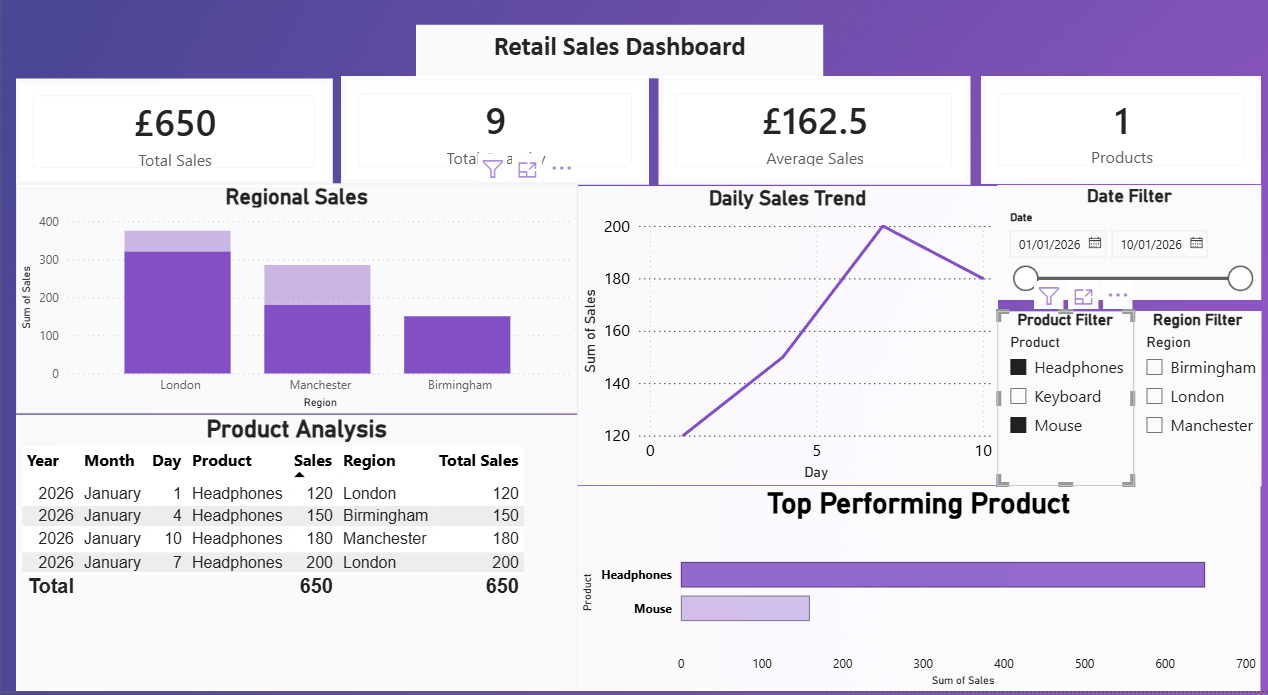

Layout of this report page (visuals, bound fields, positions):
{"tool":"powerbi","page":{"name":"Page 1","canvas":[1280,720],"ordinal":0},"visuals":[{"type":"clusteredBarChart","title":"Top Performing Product","fields":{"Category":["sales_data cvs.Product"],"Y":["Sum(sales_data cvs.Sales)"]},"box":[576.3,514.6,683.4,205.8],"z":0},{"type":"lineChart","title":"Daily Sales Trend","fields":{"Category":["sales_data cvs.Date.Variation.Date Hierarchy.Day"],"Y":["Sum(sales_data cvs.Sales)"]},"box":[576,215.2,420.7,299.6],"z":1000},{"type":"tableEx","title":"Product Analysis","fields":{"Values":["sales_data cvs.Date.Variation.Date Hierarchy.Year","sales_data cvs.Date.Variation.Date Hierarchy.Month","sales_data cvs.Date.Variation.Date Hierarchy.Day","sales_data cvs.Product","Sum(sales_data cvs.Sales)","sales_data cvs.Region","sales_data cvs.Total Sales"]},"box":[15.1,443.2,561.2,277.2],"z":2000},{"type":"cardVisual","fields":{"Data":["sales_data cvs.Average Sales"]},"box":[657.9,105.2,311.8,108.8],"z":3000},{"type":"cardVisual","fields":{"Data":["sales_data cvs.Total Quantity"]},"box":[339.9,105.2,308.2,108.8],"z":4000},{"type":"cardVisual","fields":{"Data":["sales_data cvs.Total Sales"]},"box":[14.7,107.6,316.7,107.6],"z":5000},{"type":"slicer","title":"Region Filter","fields":{"Values":["sales_data cvs.Region"]},"box":[1132.3,339.9,128.4,174.9],"z":6000},{"type":"slicer","title":"Product Filter","fields":{"Values":["sales_data cvs.Product"]},"box":[996.6,339.9,135.7,174.9],"z":7000},{"type":"textbox","box":[414.5,53.8,407.2,53.8],"z":8000},{"type":"slicer","title":"Date Filter","fields":{"Values":["sales_data cvs.Date"]},"box":[996.6,214,264.1,114.9],"z":9000},{"type":"clusteredColumnChart","title":"Regional Sales","fields":{"Category":["sales_data cvs.Region"],"Y":["Sum(sales_data cvs.Sales)"]},"box":[14.7,212.8,561.3,229.9],"z":9001},{"type":"cardVisual","fields":{"Data":["sales_data cvs.Number of Products"]},"box":[979.5,105.2,280,107.6],"z":9002}]}

Visuals, with their boxes in screenshot pixels (x1, y1, x2, y2), scaled from the page's 1280x720 canvas onto the 1268x695 screenshot:
"Top Performing Product" clusteredBarChart: [571, 497, 1248, 694]
"Daily Sales Trend" lineChart: [571, 208, 987, 497]
"Product Analysis" tableEx: [15, 428, 571, 694]
cardVisual - sales_data cvs.Average Sales: [652, 102, 961, 207]
cardVisual - sales_data cvs.Total Quantity: [337, 102, 642, 207]
cardVisual - sales_data cvs.Total Sales: [15, 104, 328, 208]
"Region Filter" slicer: [1122, 328, 1249, 497]
"Product Filter" slicer: [987, 328, 1122, 497]
textbox: [411, 52, 814, 104]
"Date Filter" slicer: [987, 207, 1249, 317]
"Regional Sales" clusteredColumnChart: [15, 205, 571, 427]
cardVisual - sales_data cvs.Number of Products: [970, 102, 1248, 205]
